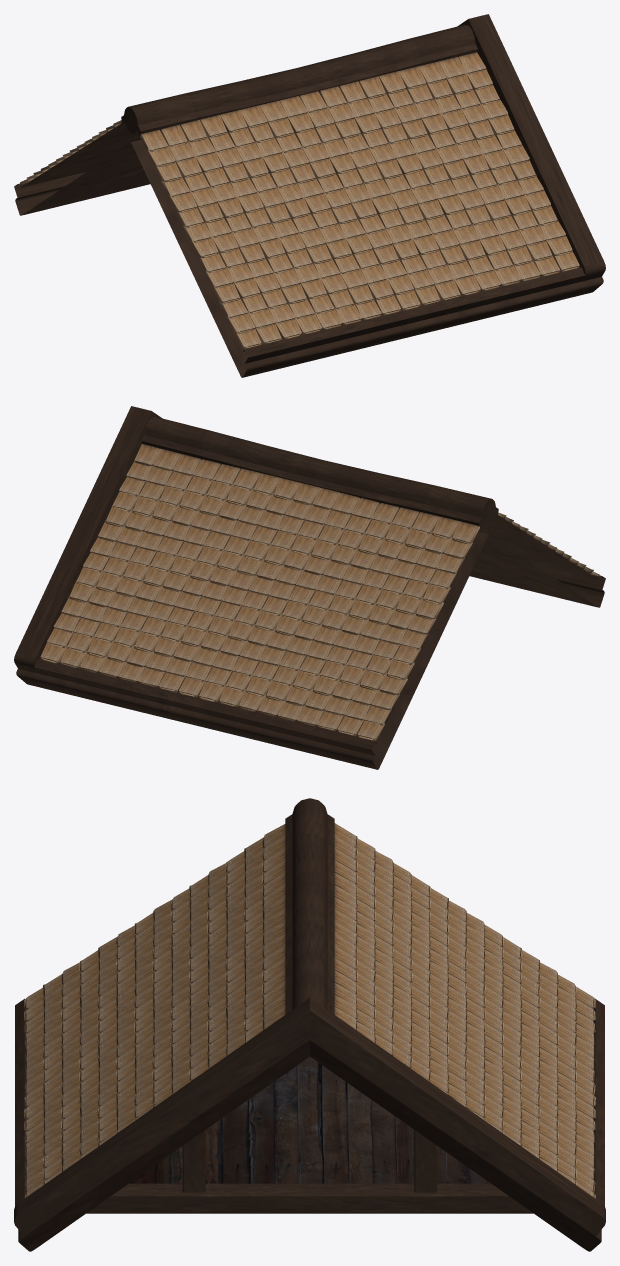
File: OutdoorArchitecture_Roof01_Tiles01_BShortt.fbx
The picture shows the model from 3 angles, top to bottom: view 1: azimuth 30°, elevation 25°; view 2: azimuth 150°, elevation 25°; view 3: azimuth 270°, elevation 25°; orthographic projection. The views are drawn at different scales.
Visible parts, largest first — view 1: OutdoorArchitecture_Roof01_Tiles01_BShortt; view 2: OutdoorArchitecture_Roof01_Tiles01_BShortt; view 3: OutdoorArchitecture_Roof01_Tiles01_BShortt.
Part boxes in pixels (x1,y1,x2,y2): OutdoorArchitecture_Roof01_Tiles01_BShortt: (14, 14, 605, 377); OutdoorArchitecture_Roof01_Tiles01_BShortt: (14, 406, 605, 769); OutdoorArchitecture_Roof01_Tiles01_BShortt: (14, 798, 605, 1251).
Size of the model in its own units: 338 by 176 by 383.
